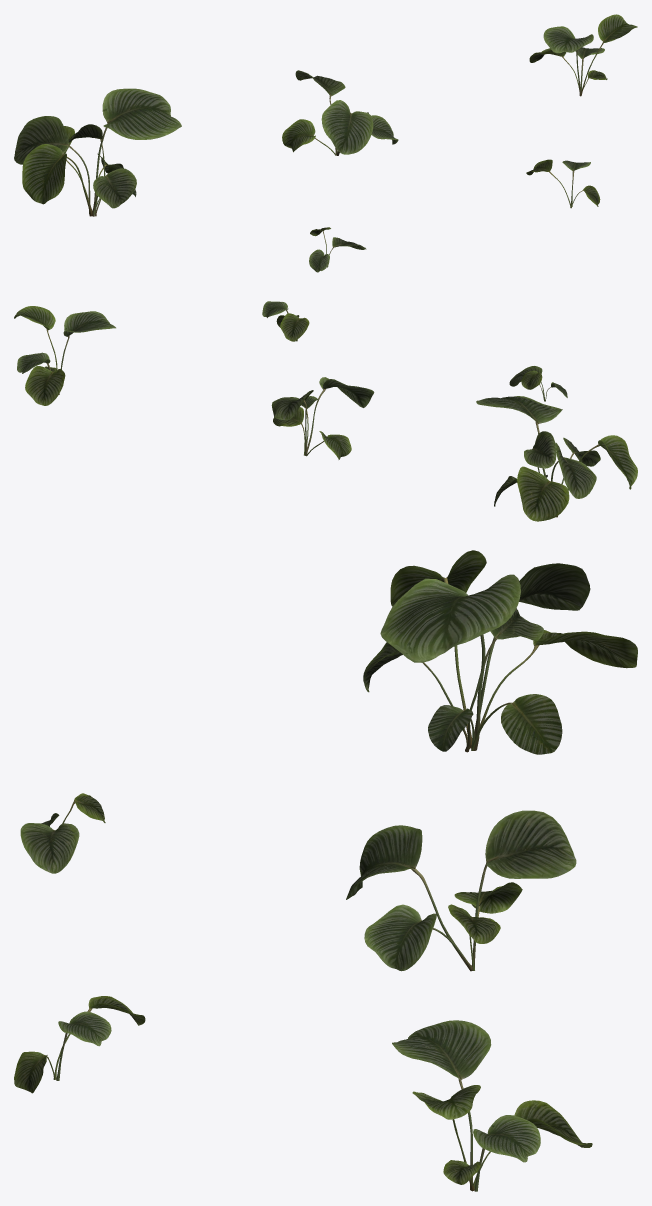
File: calathea_orbifolia_01.glb
The picture shows the model from 3 angles, top to bottom: view 1: azimuth 30°, elevation 25°; view 2: azimuth 150°, elevation 25°; view 3: azimuth 270°, elevation 25°; orthographic projection. The views are drawn at different scales.
Visible parts, largest first — view 1: calathea_orbifolia_01_a; view 2: calathea_orbifolia_01_a; view 3: calathea_orbifolia_01_a.
Part boxes in pixels (bbox=[...]): calathea_orbifolia_01_a: bbox=[14, 14, 637, 272]; calathea_orbifolia_01_a: bbox=[14, 301, 637, 521]; calathea_orbifolia_01_a: bbox=[14, 550, 637, 1191].
Size of the model in its own units: 2.49 by 0.4243 by 1.19.
1 material, 1 textured.
